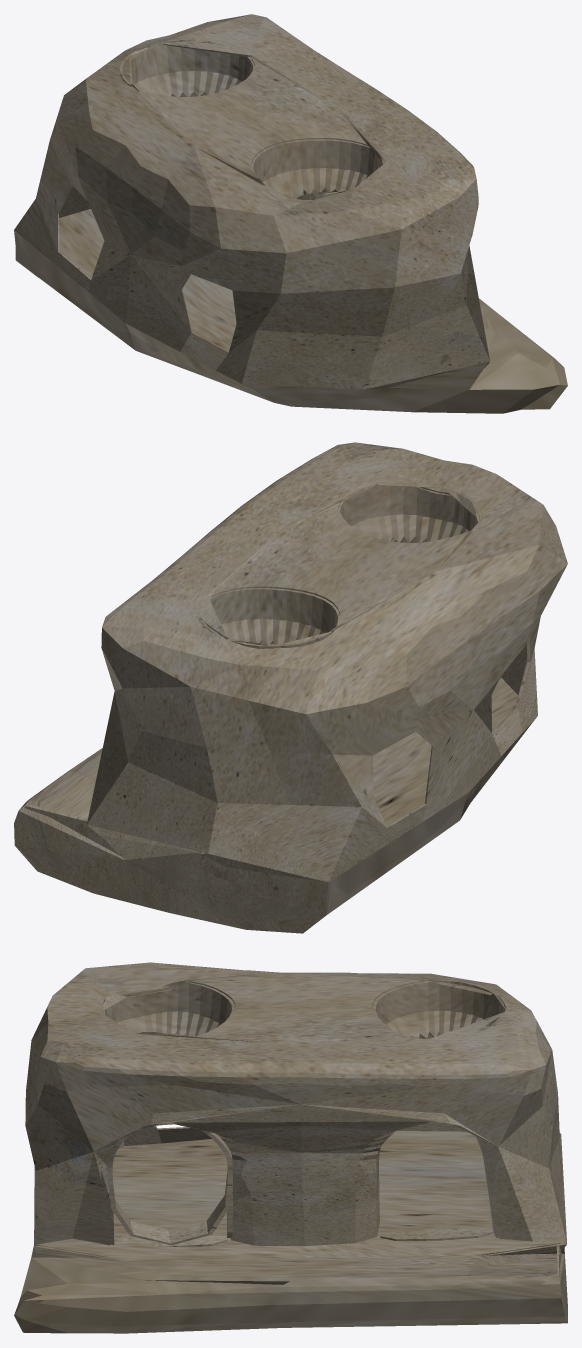
File: bepduc2.fbx
The picture shows the model from 3 angles, top to bottom: view 1: azimuth 30°, elevation 25°; view 2: azimuth 150°, elevation 25°; view 3: azimuth 270°, elevation 25°; orthographic projection. The views are drawn at different scales.
Visible parts, largest first — view 1: bep; view 2: bep; view 3: bep.
Part boxes in pixels (box(x1,y1,x2,y2)): bep: box(14, 14, 567, 413); bep: box(14, 442, 567, 933); bep: box(14, 962, 567, 1333).
Bounding box in the file's own units: 353 × 275 × 538.
